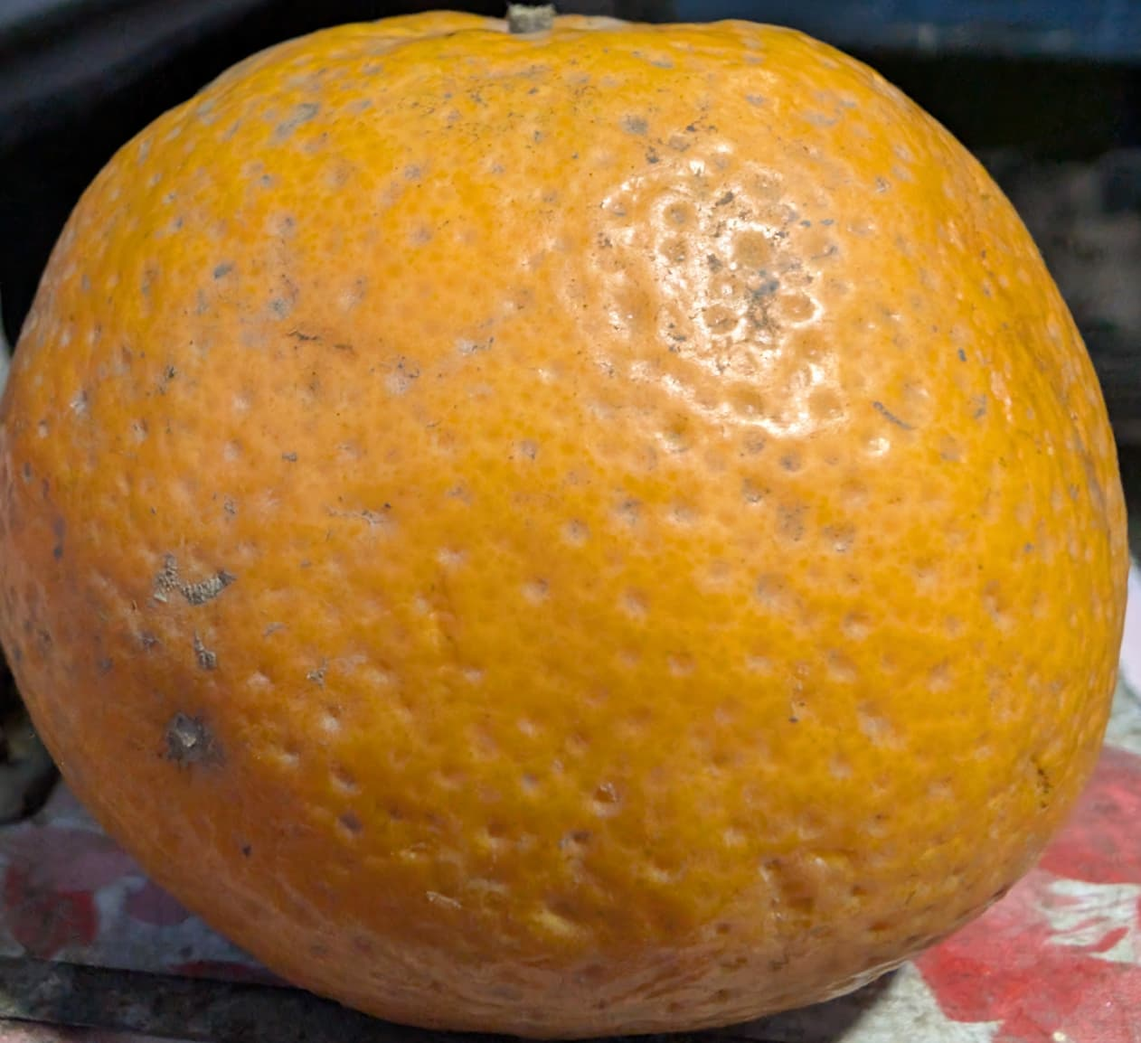orange: (82, 113, 1061, 888)
